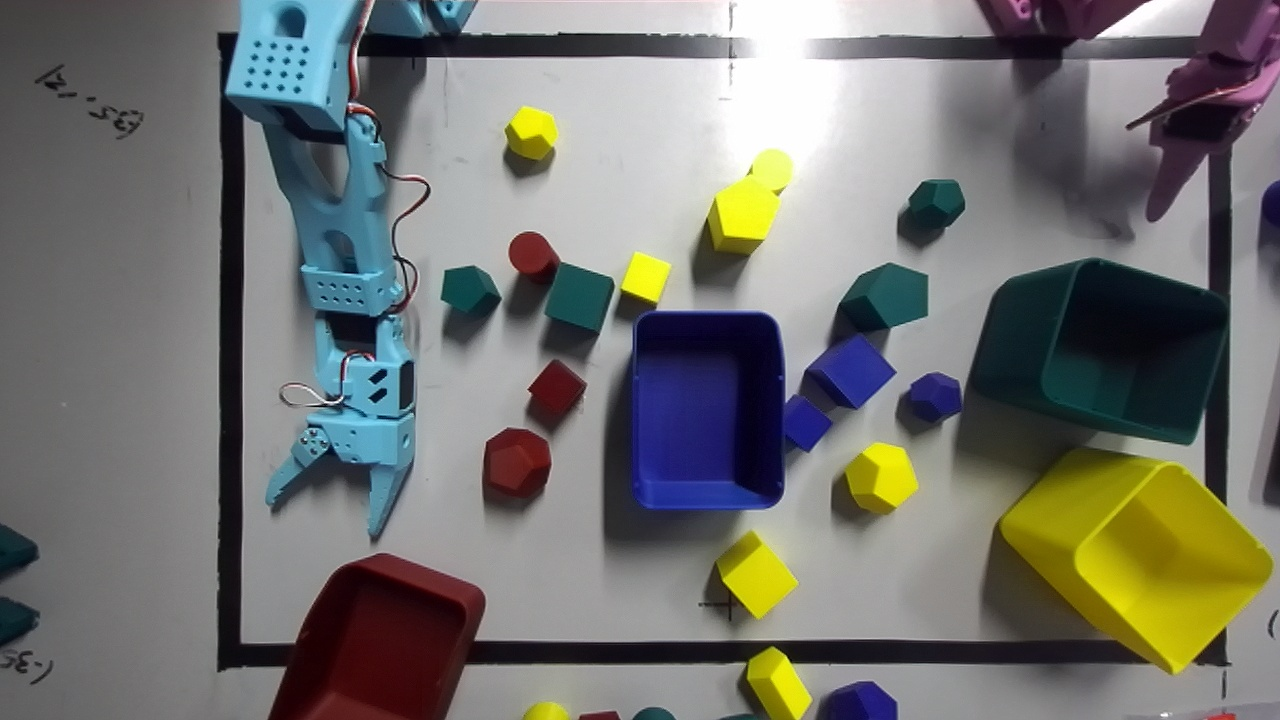bin: (998, 448, 1272, 673), (970, 258, 1228, 443), (269, 553, 484, 719), (631, 310, 784, 509)
cube: (716, 530, 797, 618), (804, 333, 896, 408), (544, 262, 614, 334), (527, 359, 586, 414), (784, 394, 831, 451), (620, 252, 670, 302)
cylinder: (508, 231, 560, 283), (748, 149, 792, 193)
dodecahedron: (844, 443, 917, 513), (484, 428, 551, 497), (504, 106, 557, 159), (908, 179, 965, 227), (908, 372, 962, 422)
hexagonal: (839, 262, 927, 331), (707, 177, 780, 253), (441, 265, 500, 314)
